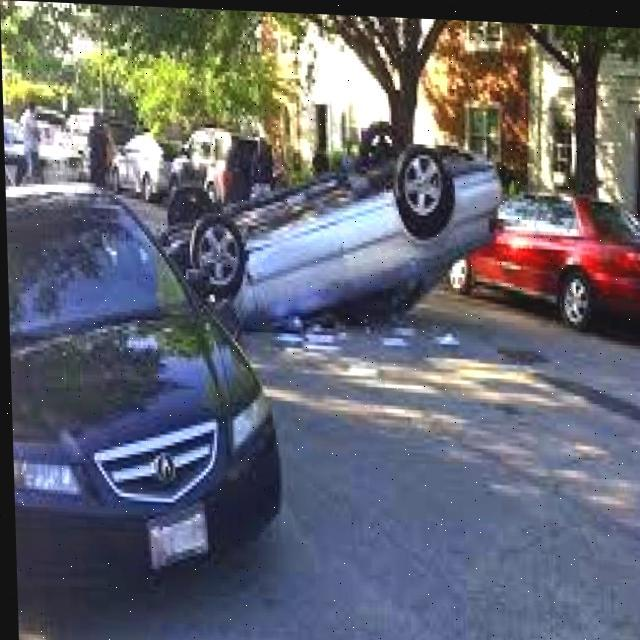single accident: (125, 102, 582, 357)
